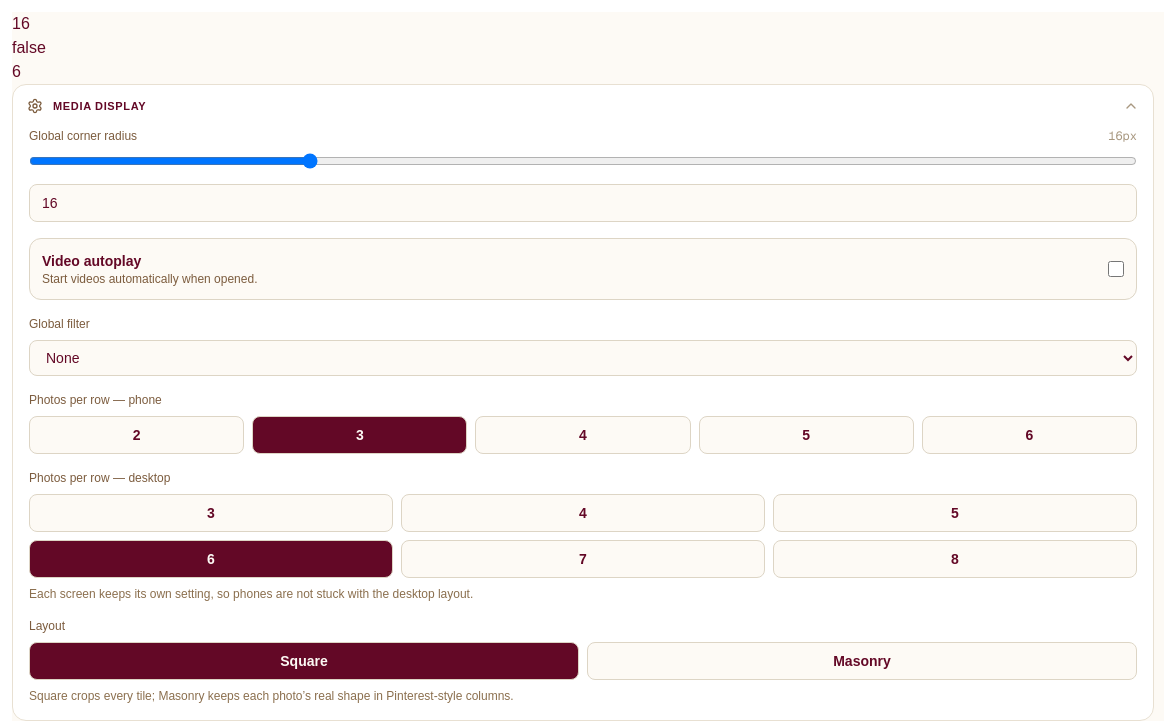
Test: MediaSettingsPanels -- what goes on the wire › a desktop-columns failure does not write the old value over a newer click
Click the 2nd button "4" at (583, 512), box 401,494 -> 765,532
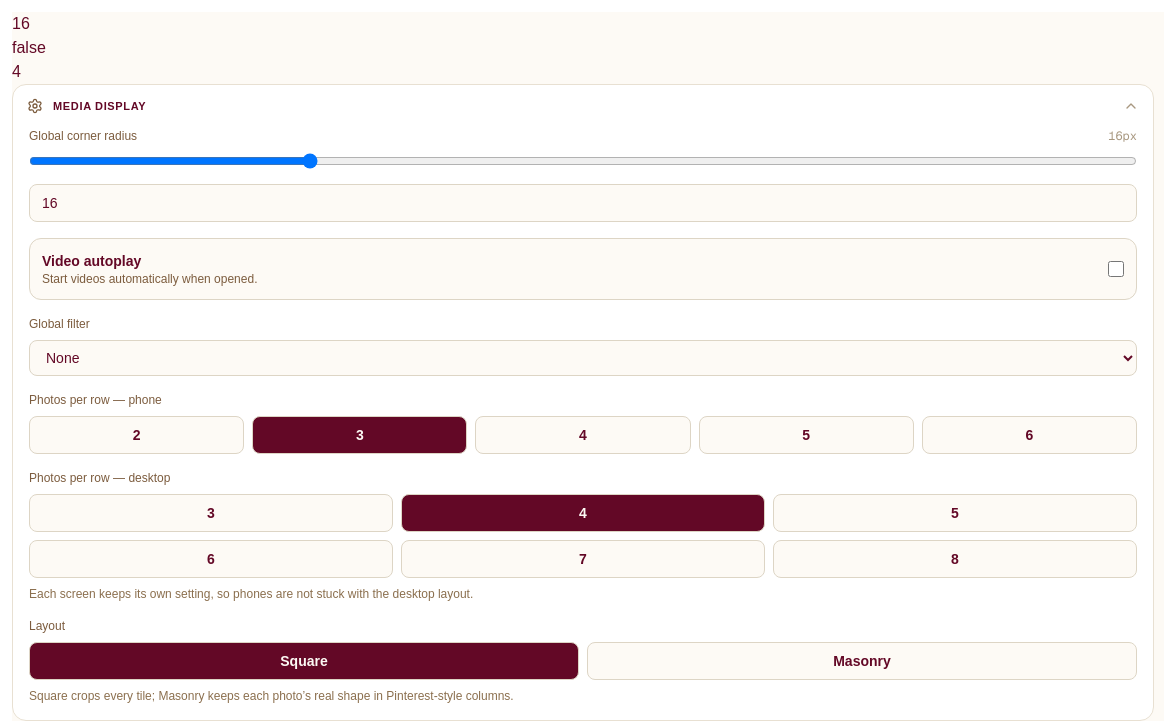
Click the 2nd button "5" at (955, 512), box 773,494 -> 1137,532
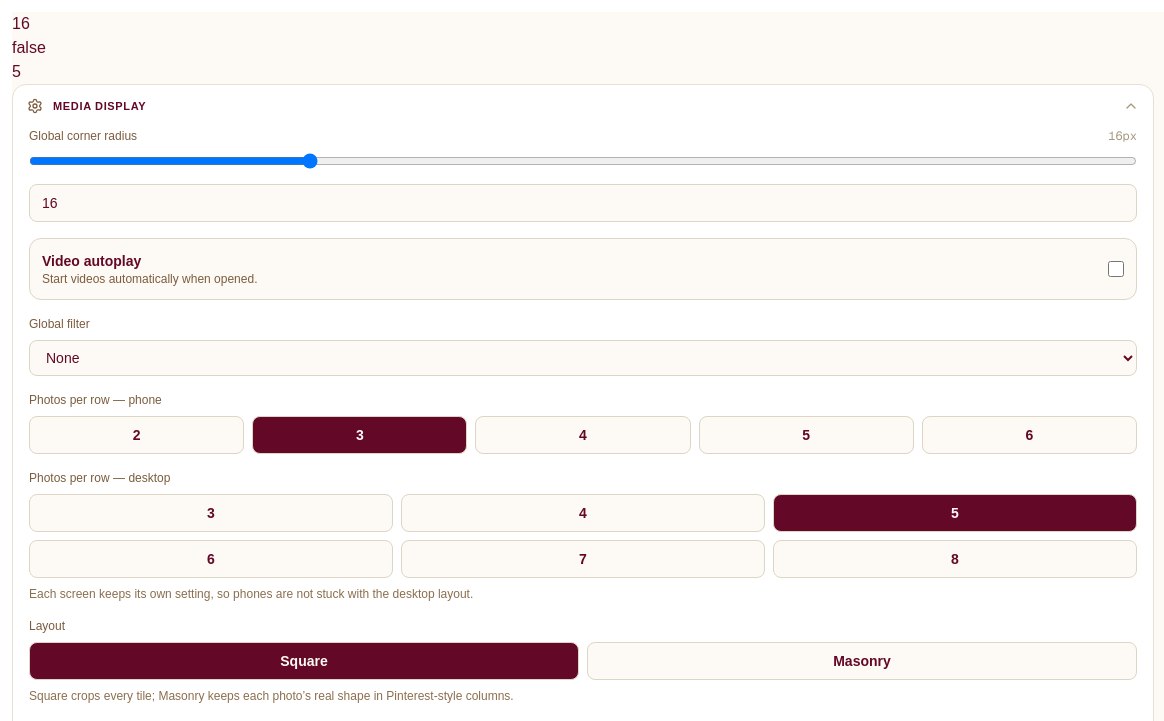
Expected: the text with test id "album-desktop" reads "5", 12,63 -> 21,80
